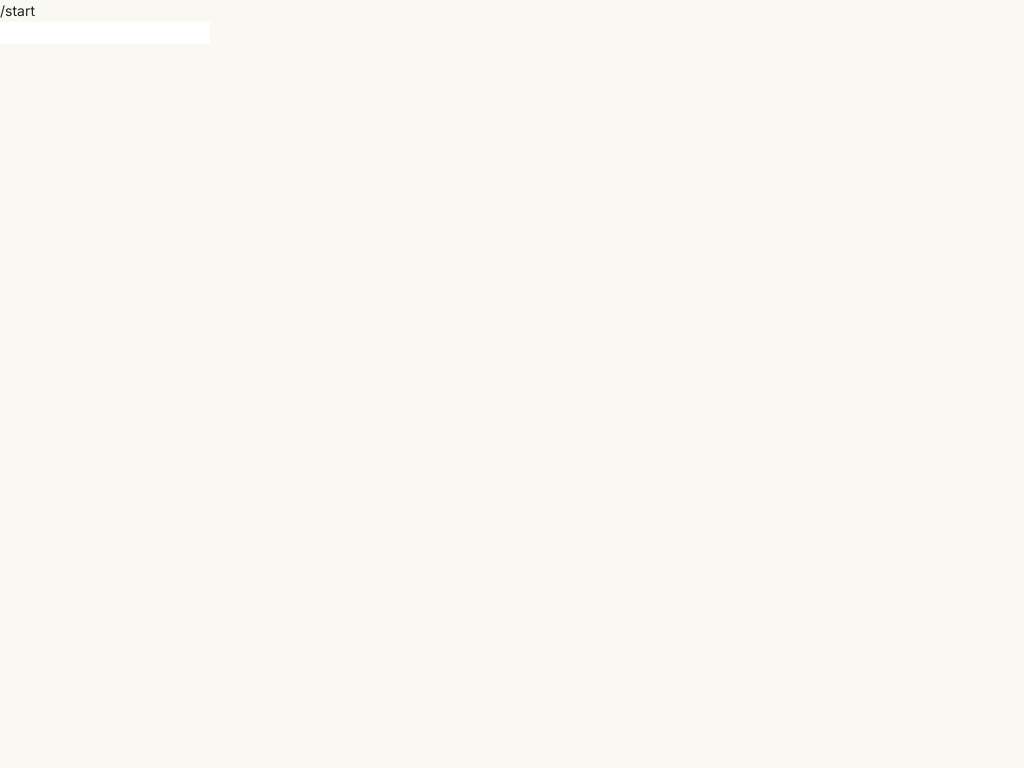
Scenario: command palette › jumps to an address by IP
Press k
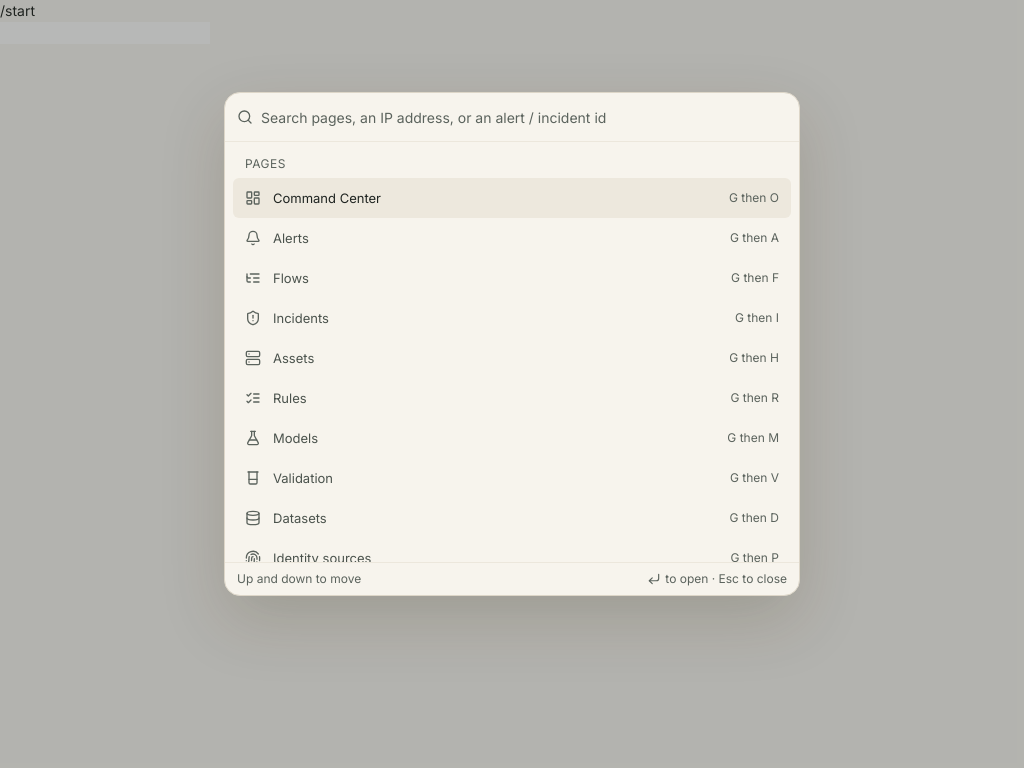
Type "10.0.0.66" into the dropdown at (524, 117), box [261, 93, 787, 141]
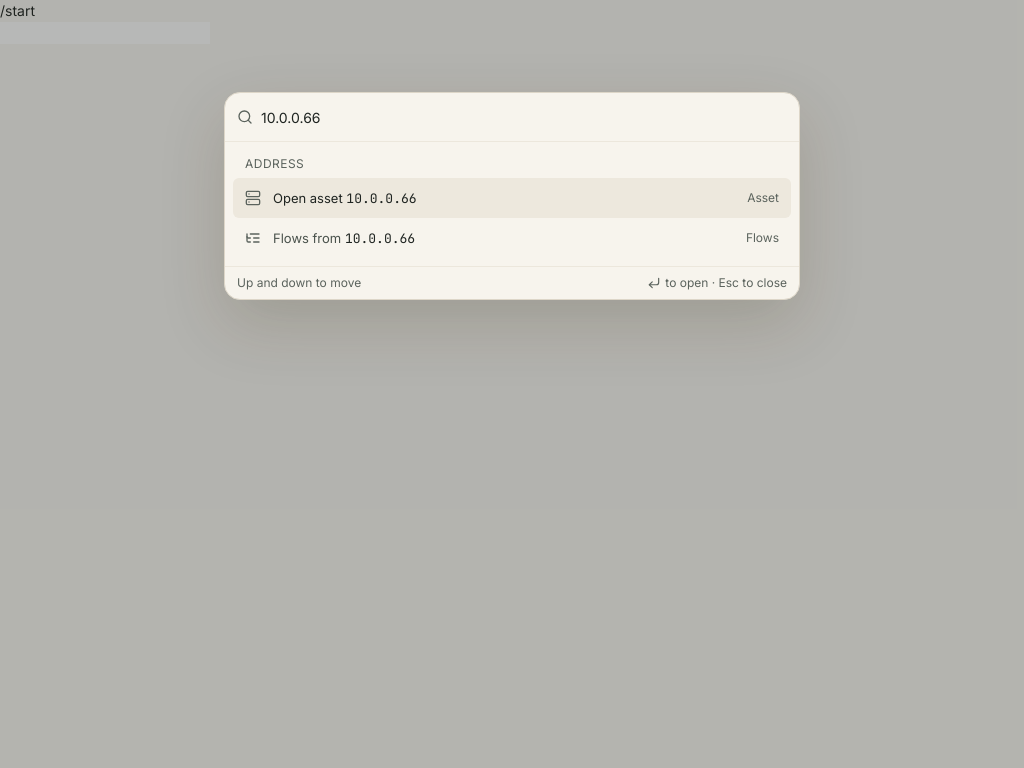
Click the option "Open asset 10.0.0.66 Asset" at (310, 198), box [233, 178, 791, 218]
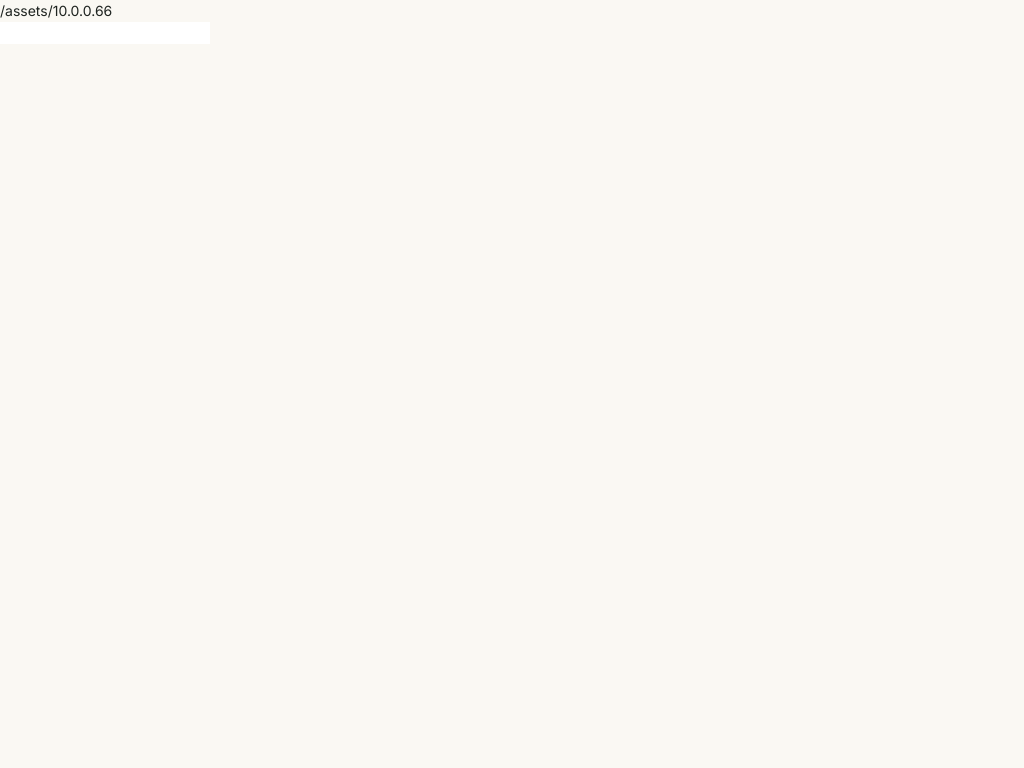
Now the text with test id "where" reads "/assets/10.0.0.66", box [0, 2, 112, 19]
